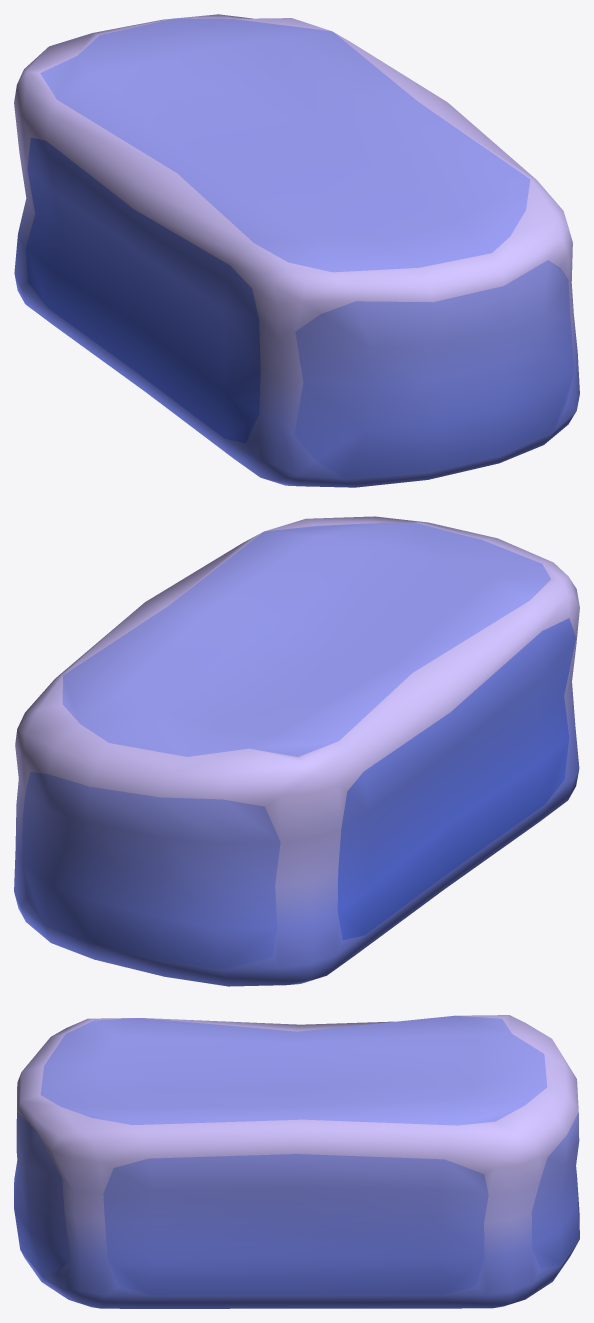
The model's file is Candy_Inner_01.fbx.
The picture shows the model from 3 angles, top to bottom: view 1: azimuth 30°, elevation 25°; view 2: azimuth 150°, elevation 25°; view 3: azimuth 270°, elevation 25°; orthographic projection. The views are drawn at different scales.
Parts seen in each view (by area): view 1: Candy_Inner_01; view 2: Candy_Inner_01; view 3: Candy_Inner_01.
Part boxes in pixels (box(x1,y1,x2,y2)): Candy_Inner_01: box(14, 14, 579, 487); Candy_Inner_01: box(14, 516, 579, 986); Candy_Inner_01: box(14, 1015, 579, 1308).
Size of the model in its own units: 67.02 by 46.13 by 126.
